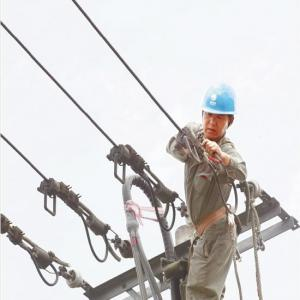blue: (199, 82, 237, 141)
